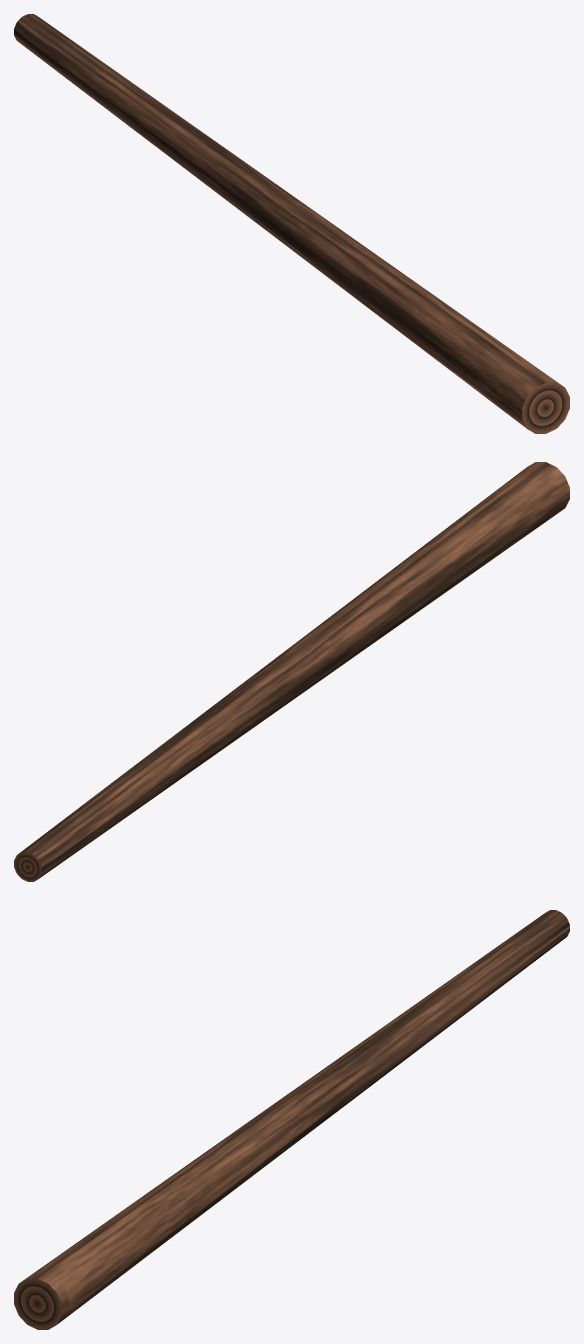
File: wood_model.fbx
The picture shows the model from 3 angles, top to bottom: view 1: azimuth 30°, elevation 25°; view 2: azimuth 150°, elevation 25°; view 3: azimuth 330°, elevation 25°; orthographic projection.
Parts seen in each view (by area): view 1: Cylinder; view 2: Cylinder; view 3: Cylinder.
Boxes of the visible parts, x1,y1,x2,y2 form: Cylinder: (14, 14, 569, 433); Cylinder: (14, 462, 569, 881); Cylinder: (14, 910, 569, 1329).
Bounding box in the file's own units: 61.19 × 62.76 × 1153.
